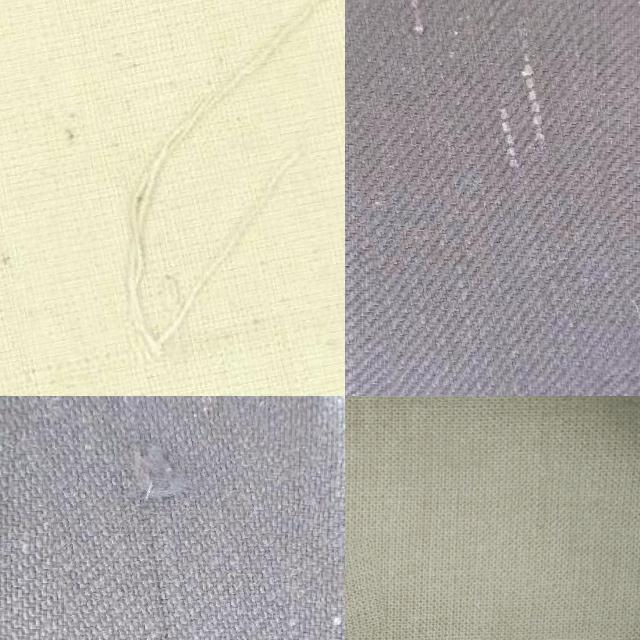Thread_other: (345, 539, 385, 640)
stains: (345, 0, 622, 396), (39, 396, 307, 640)
